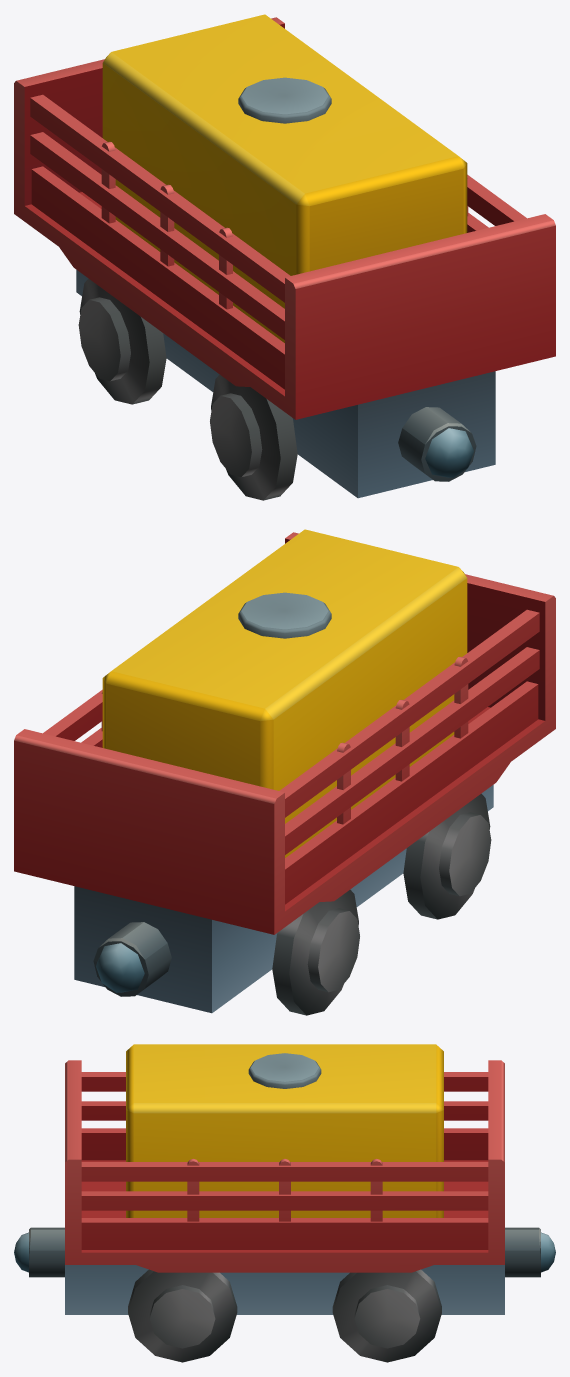
The model's file is Carriage_Can.fbx.
3 views of the same model, one above another, from view 1: azimuth 30°, elevation 25°; view 2: azimuth 150°, elevation 25°; view 3: azimuth 270°, elevation 25° (orthographic). The views are drawn at different scales.
Visible parts, largest first — view 1: Carriage_Can; view 2: Carriage_Can; view 3: Carriage_Can.
Part boxes in pixels (x1,y1,x2,y2): Carriage_Can: (14, 14, 555, 500); Carriage_Can: (14, 529, 555, 1015); Carriage_Can: (14, 1044, 555, 1362).
Size of the model in its own units: 300 by 360 by 692.
